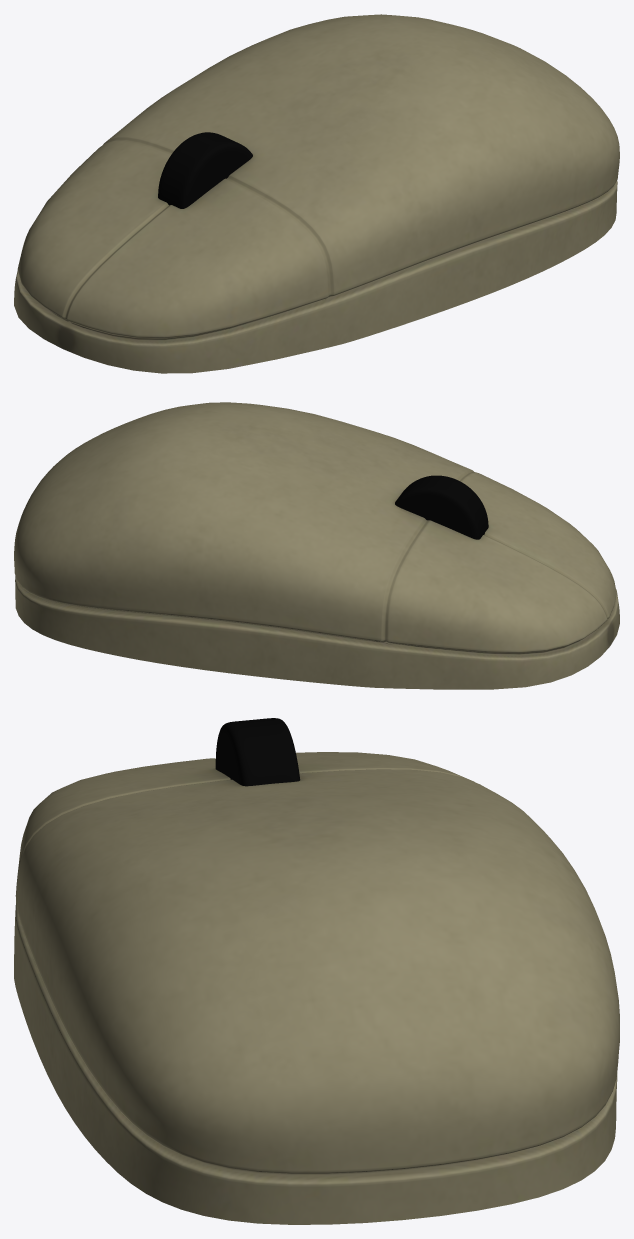
Rendered from mouse.glb.
The picture shows the model from 3 angles, top to bottom: view 1: azimuth 30°, elevation 25°; view 2: azimuth 150°, elevation 25°; view 3: azimuth 270°, elevation 25°; orthographic projection. The views are drawn at different scales.
Visible parts, largest first — view 1: mouse; view 2: mouse; view 3: mouse.
Boxes of the visible parts, box(x1,y1,x2,y2) form: mouse: box(14, 14, 619, 373); mouse: box(14, 402, 619, 689); mouse: box(14, 718, 619, 1224).
Size of the model in its own units: 0.1172 by 0.0339 by 0.0751.
Materials: 1 (1 with a texture image).
